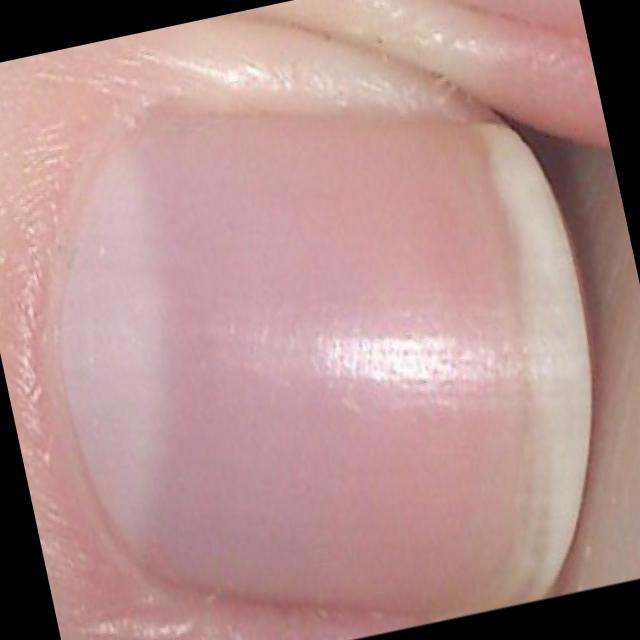Nail: (59, 111, 592, 619)
